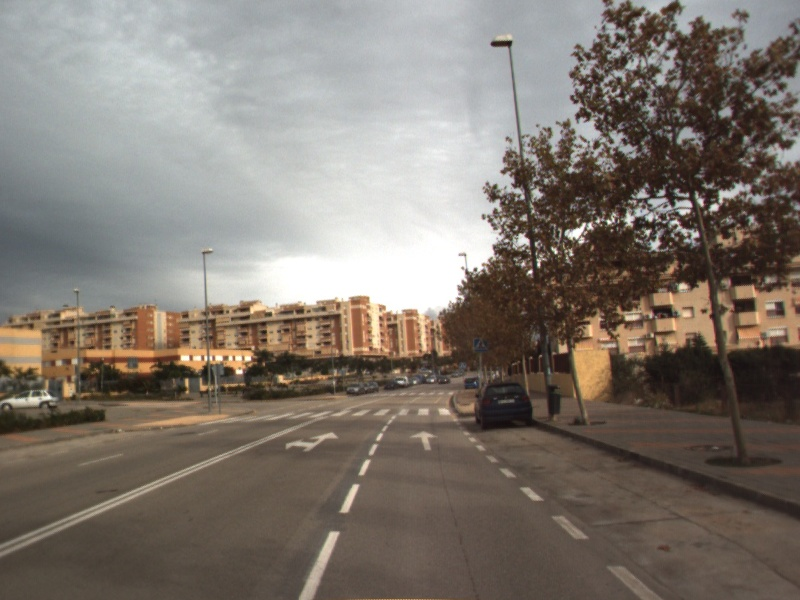STRAIGHT: (408, 428, 440, 452)
STRAIGHT_LEFT: (283, 429, 341, 453)
